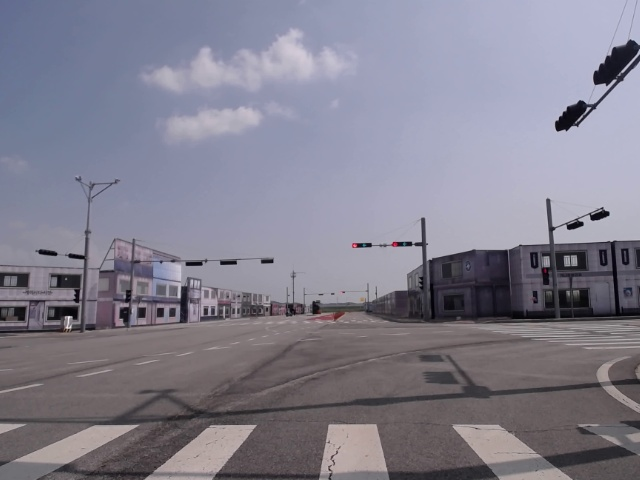left_green_4: (393, 242, 411, 247), (352, 243, 371, 247)
